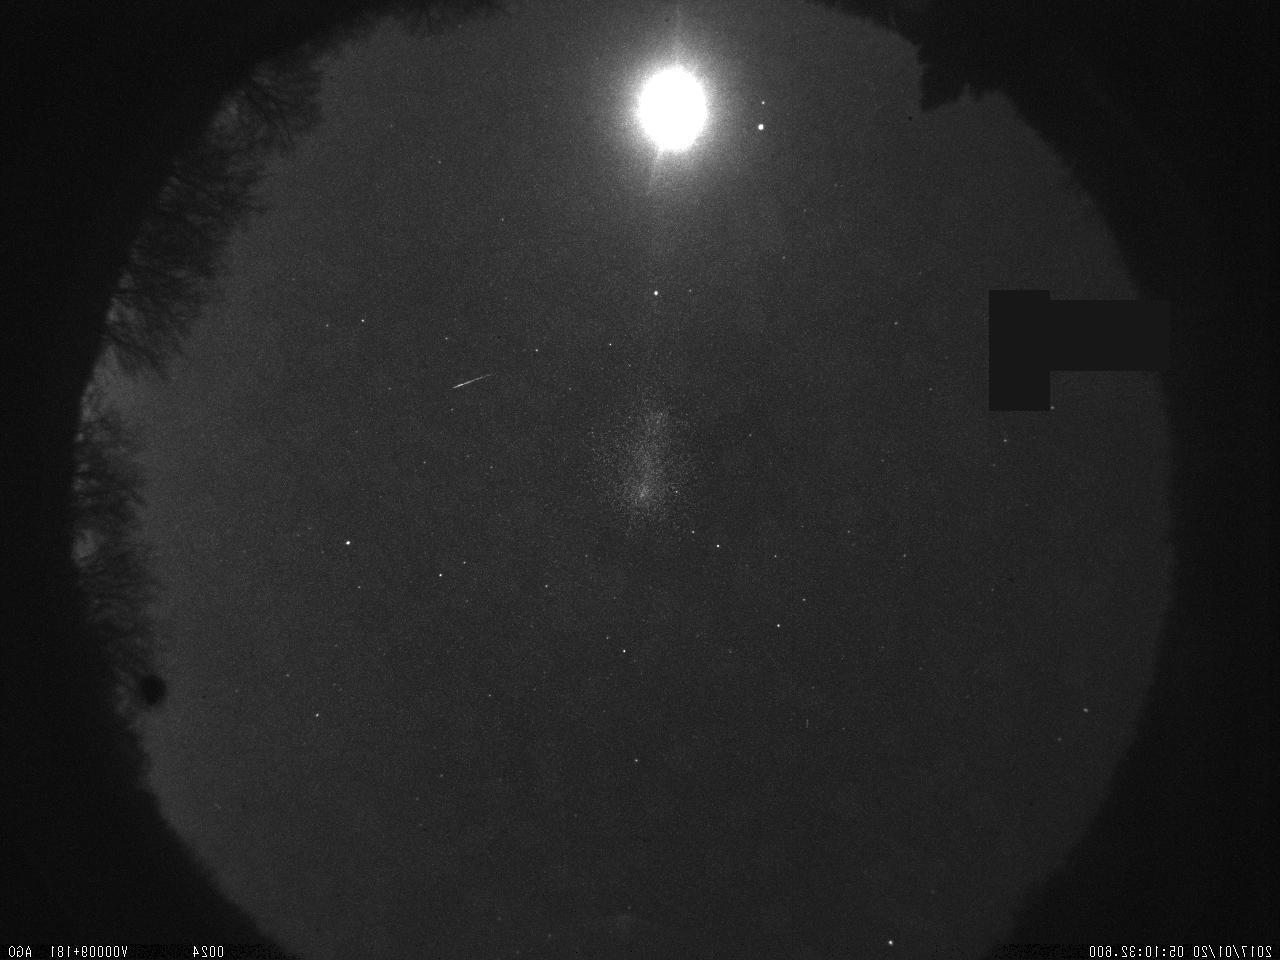meteor: (419, 342, 521, 430)
